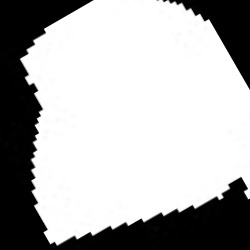spot: (20, 2, 248, 245)
